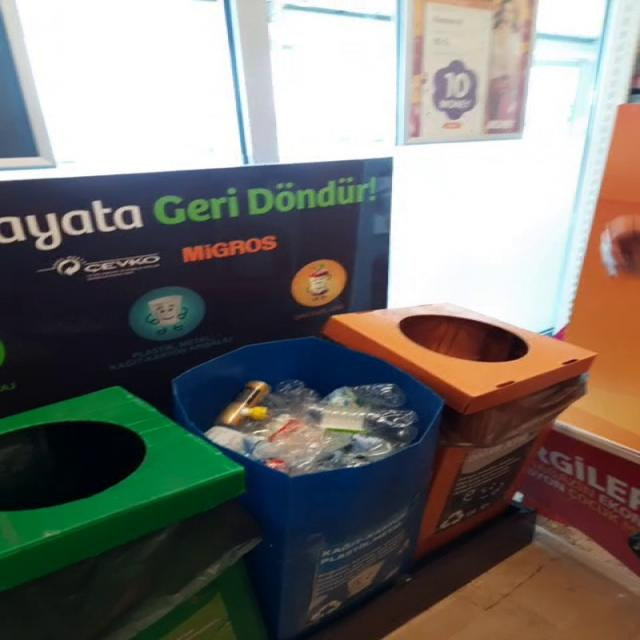bin: (1, 305, 596, 640)
metal: (215, 381, 271, 426)
